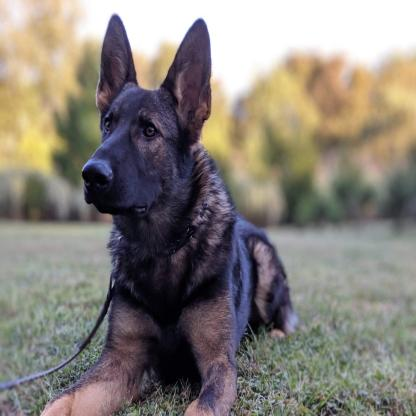dog: (44, 18, 298, 416)
